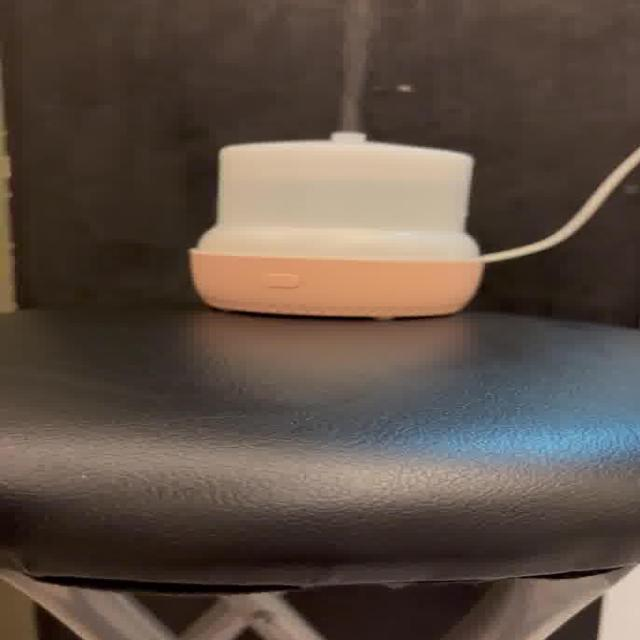fire: (333, 0, 376, 131)
